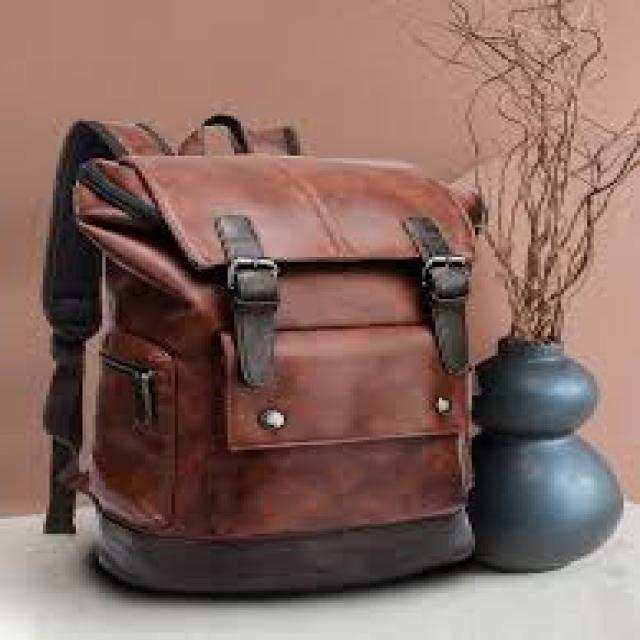backpack: (41, 112, 516, 597)
